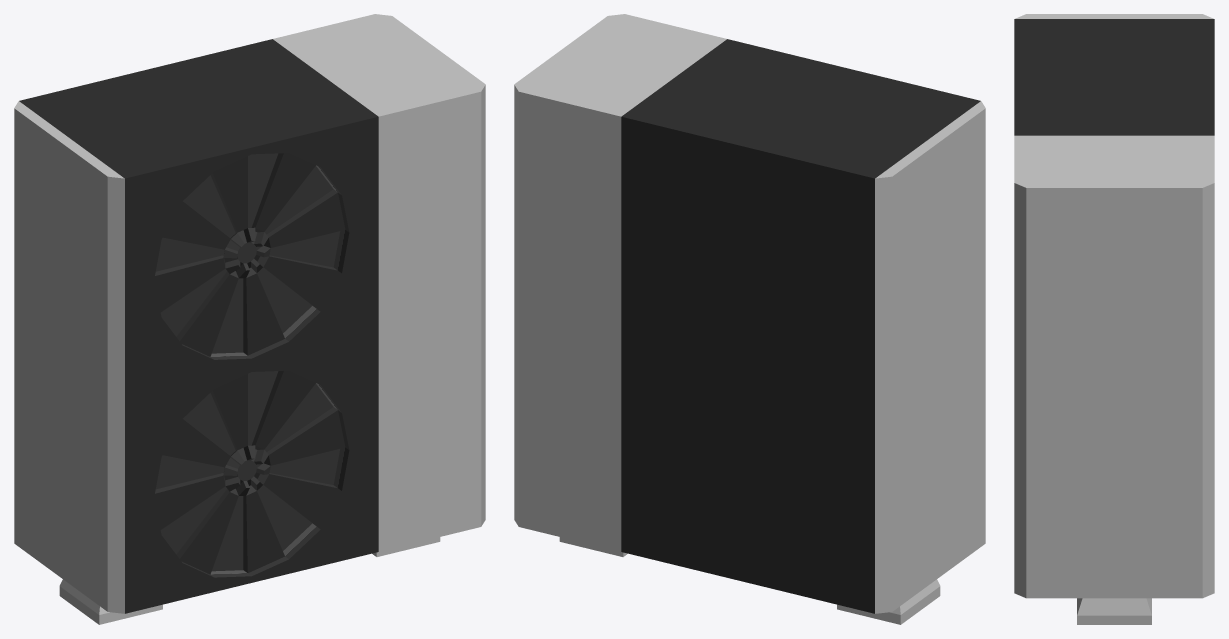
The model's file is RoofAcc_UnitV2.fbx.
3 views of the same model, side by side, from view 1: azimuth 30°, elevation 25°; view 2: azimuth 150°, elevation 25°; view 3: azimuth 270°, elevation 25° (orthographic). The views are drawn at different scales.
Visible parts, largest first — view 1: RoofAcc_UnitV2; view 2: RoofAcc_UnitV2; view 3: RoofAcc_UnitV2.
Part boxes in pixels (x1,y1,x2,y2): RoofAcc_UnitV2: [14, 14, 485, 624]; RoofAcc_UnitV2: [514, 14, 985, 624]; RoofAcc_UnitV2: [1014, 14, 1214, 624].
Bounding box in the file's own units: 50 × 59.7 × 24.3.
